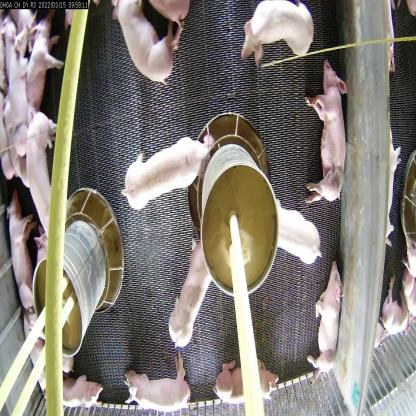Pig: (158, 238, 224, 353), (114, 0, 183, 102), (308, 59, 354, 211), (125, 136, 212, 213), (241, 0, 320, 76), (26, 105, 64, 252), (207, 338, 282, 411), (309, 261, 350, 376), (131, 354, 193, 416), (266, 198, 320, 267), (6, 202, 37, 322), (7, 13, 28, 168), (23, 17, 58, 99)
